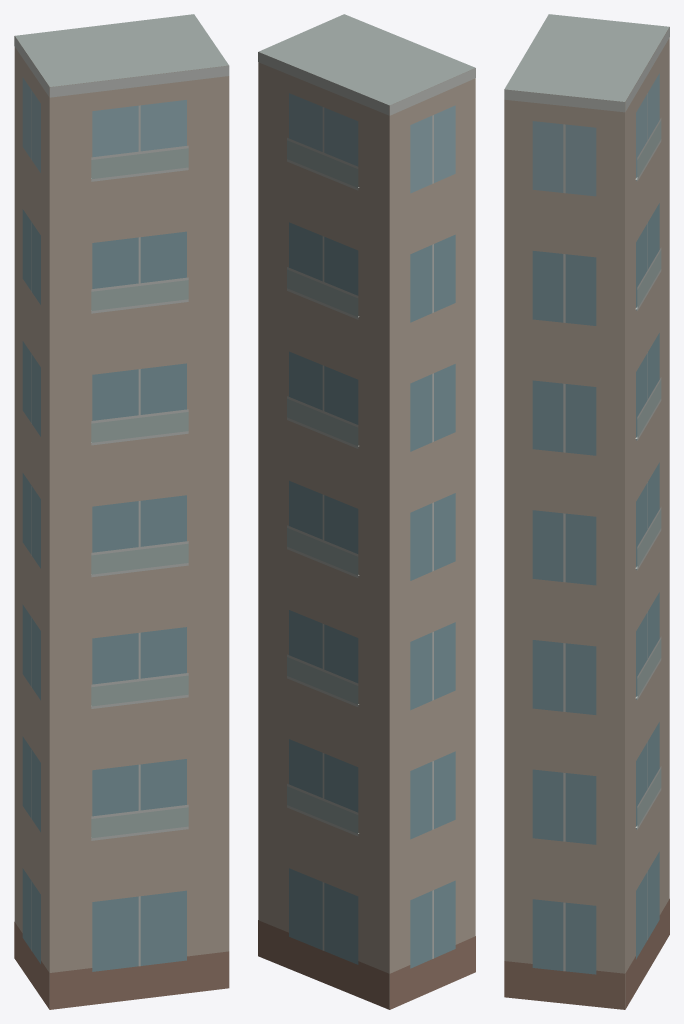
File: survey-upis-32880265.glb
3 views of the same model, side by side, from view 1: azimuth 30°, elevation 25°; view 2: azimuth 150°, elevation 25°; view 3: azimuth 270°, elevation 25° (orthographic). The views are drawn at different scales.
Visible parts, largest first — view 1: survey-upis-32880265.tmp; view 2: survey-upis-32880265.tmp; view 3: survey-upis-32880265.tmp.
Part boxes in pixels (x1,y1,x2,y2): survey-upis-32880265.tmp: (14, 14, 229, 1009); survey-upis-32880265.tmp: (258, 14, 475, 1009); survey-upis-32880265.tmp: (504, 14, 669, 1009).
Bounding box in the file's own units: 4.45 × 21.35 × 3.54.
